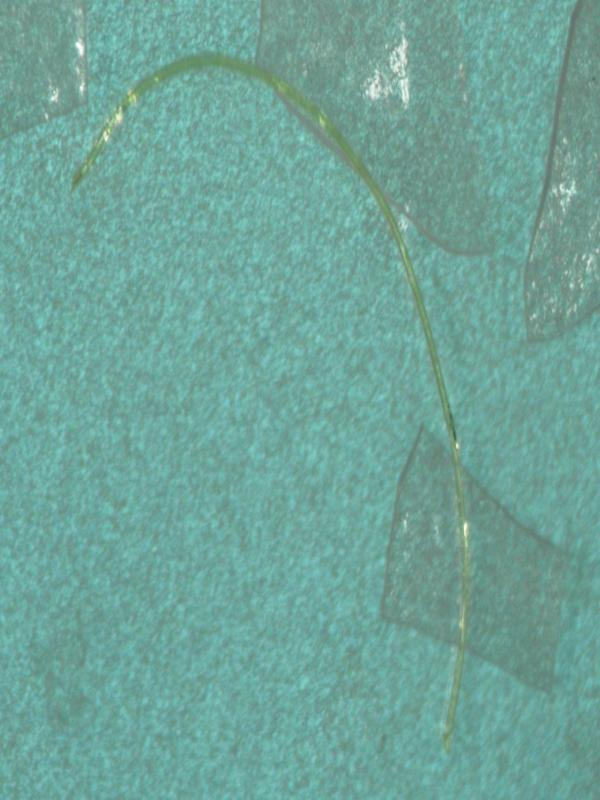microplastic: (69, 44, 474, 751)
